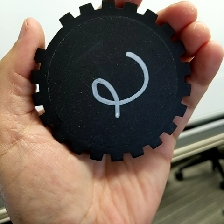gear: (30, 1, 193, 162)
missing: (35, 12, 74, 65)
